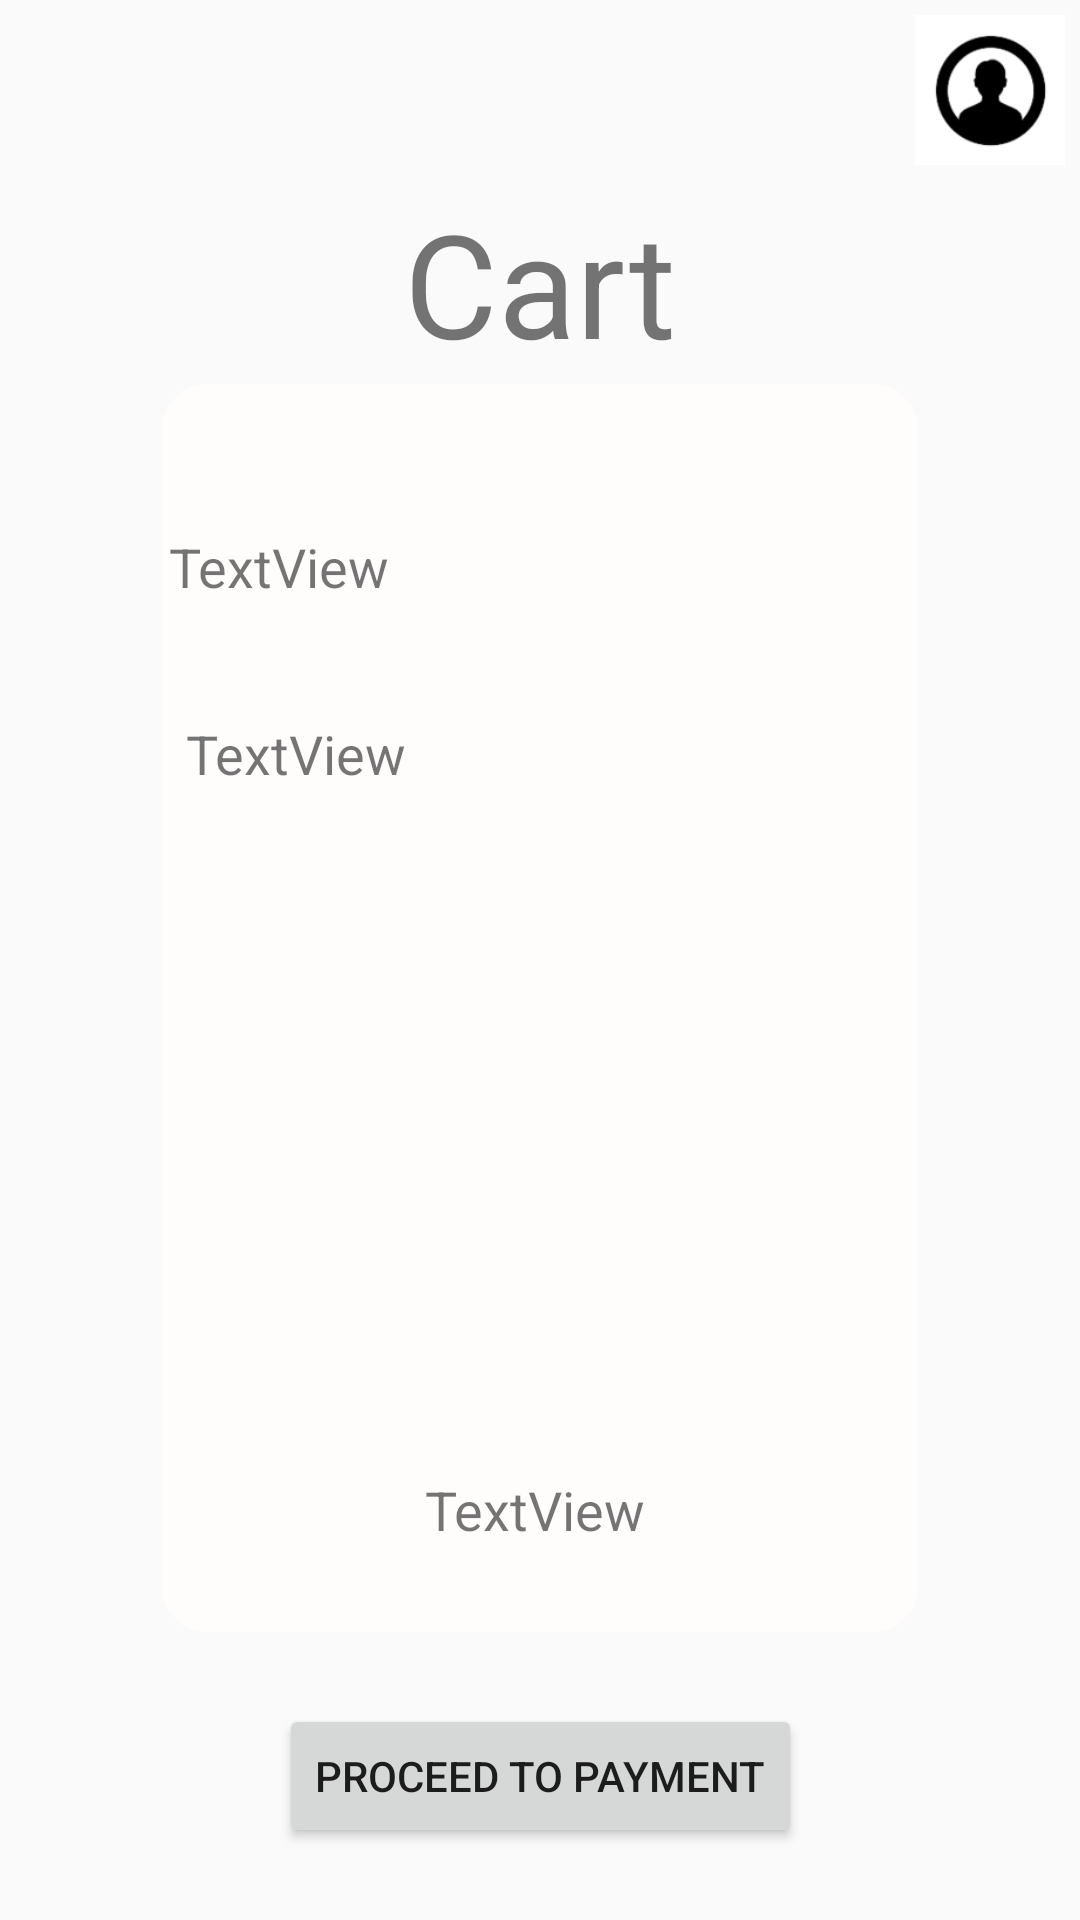

Screen size 1080 x 1920. Icon name, then its box in pixels as bbox=[x1, y1, x2, y2]:
personal info: bbox=[935, 35, 1046, 146]
